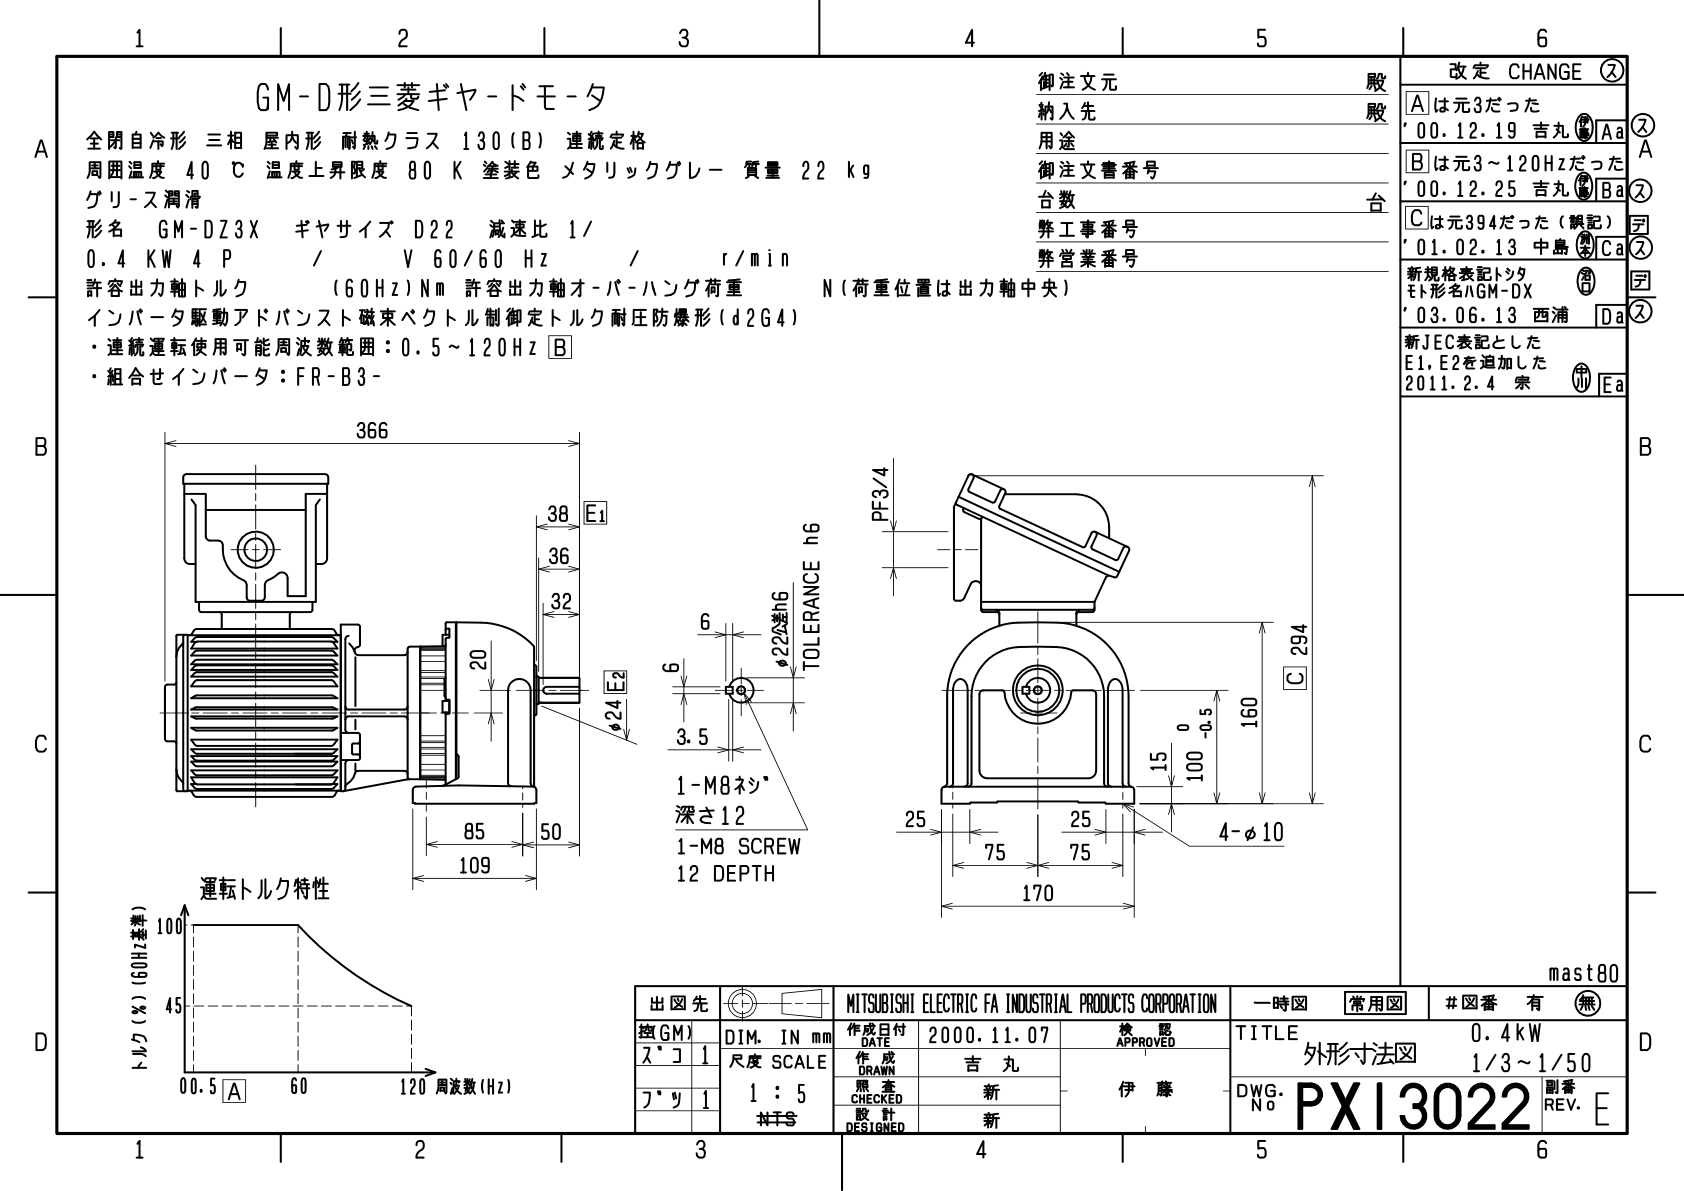GM_D_制御屋内_三相_脚: (10, 9, 1684, 1191)
